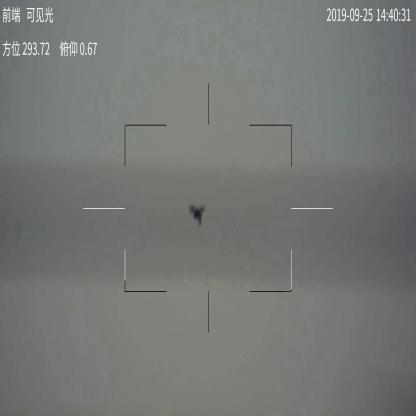uav: (186, 201, 208, 228)
